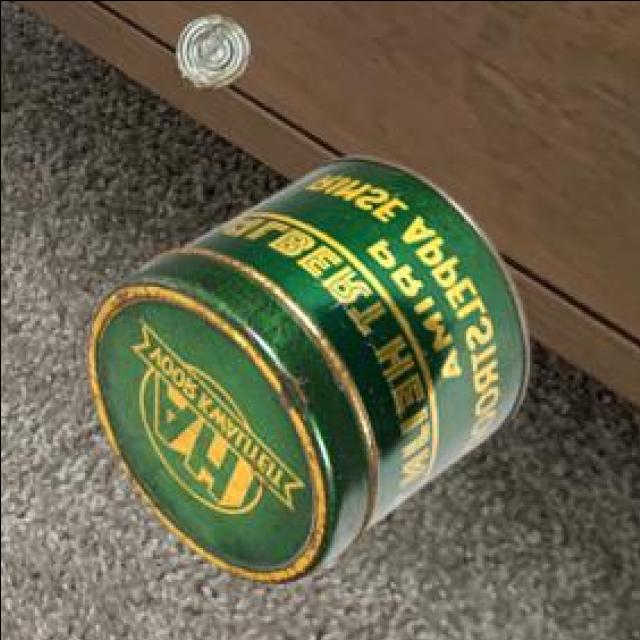logam: (90, 151, 532, 580), (178, 10, 253, 87)
